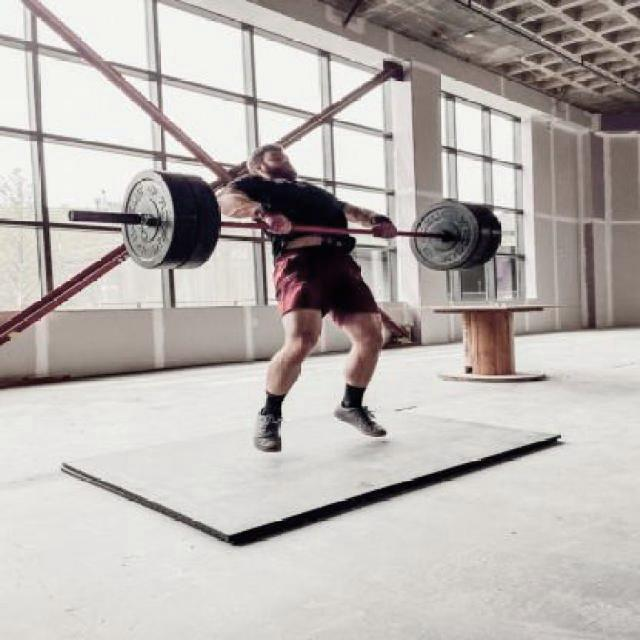barbell: (64, 162, 182, 276)
